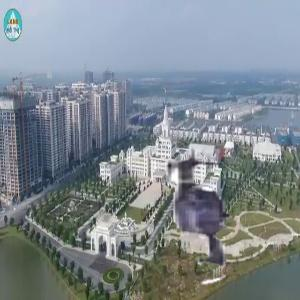drone: (105, 129, 275, 299)
